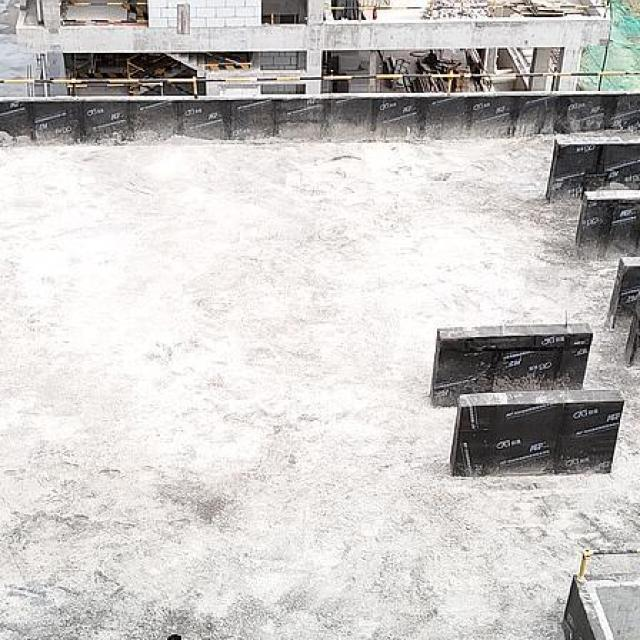edge_guardrail: (0, 70, 640, 99), (327, 4, 610, 20), (61, 1, 148, 25), (577, 547, 640, 580)
